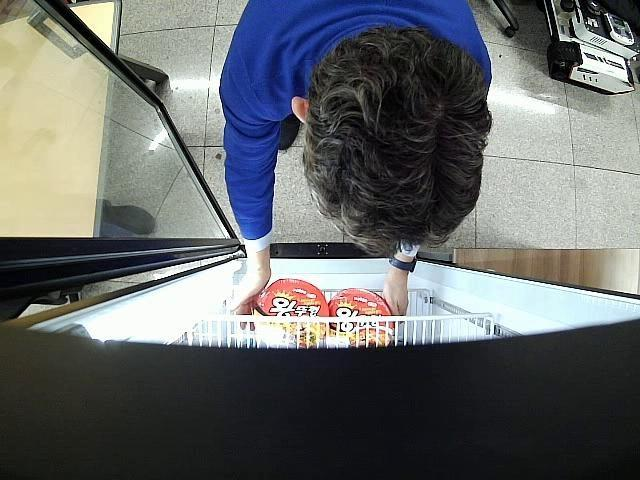10_wangTtukkeong: (252, 278, 330, 348), (329, 288, 395, 347)
